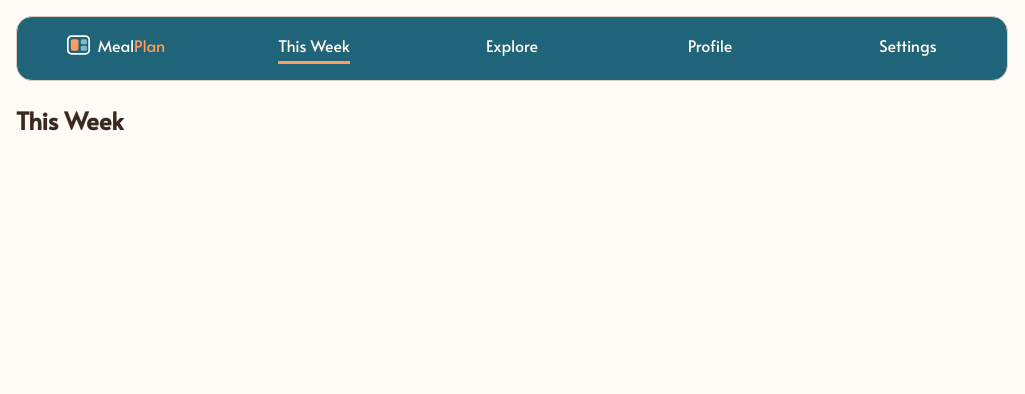
Settings shows the profile details and the preferred unit
This screenshot has width=1025, height=394.
Check: the element showing "MealPlan This Week Explore Profile Settings" is shown, box [16,16,1008,81]
Click the tab "Settings". click: (908,48)
box: [809,17,1007,80]
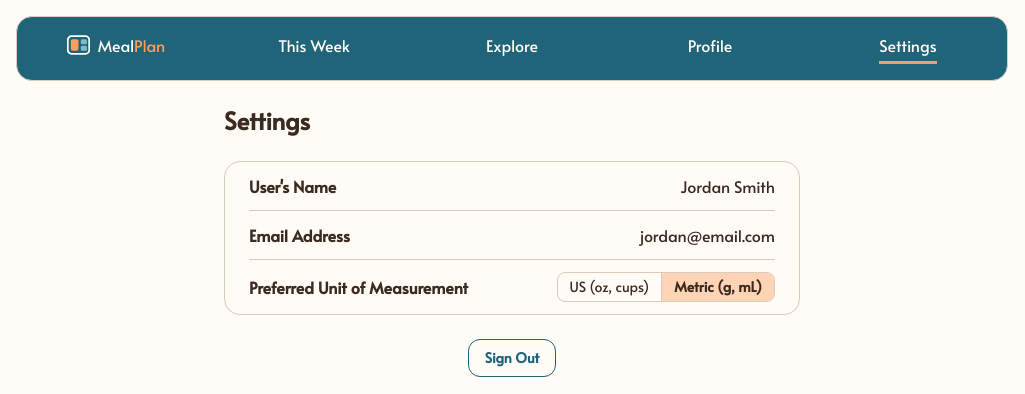
Check: the text "Jordan Smith" is shown, box [680,174,775,198]
Check: the text "jordan@email.com" is shown, box [640,223,775,247]
Check: the text "User's Name" is shown, box [249,174,336,198]
